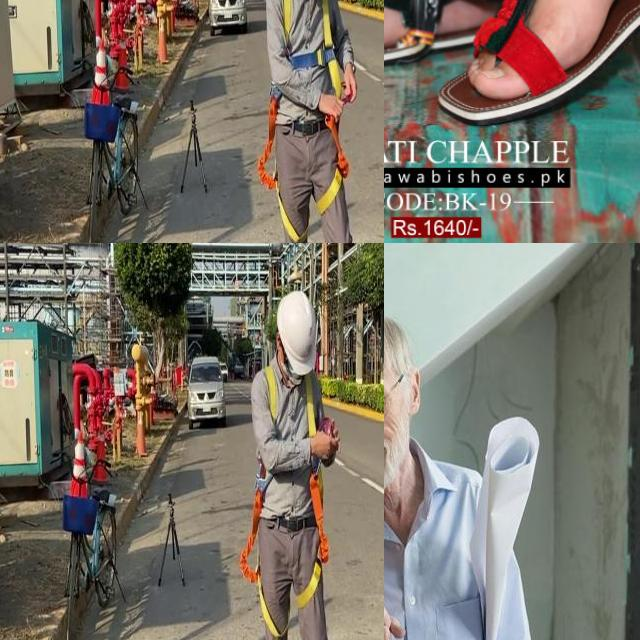Harness: (257, 92, 307, 243), (240, 488, 284, 639), (283, 0, 342, 98), (296, 473, 330, 610), (317, 116, 350, 216)
head_nohelmet: (384, 314, 409, 386)
person: (384, 314, 537, 640)
